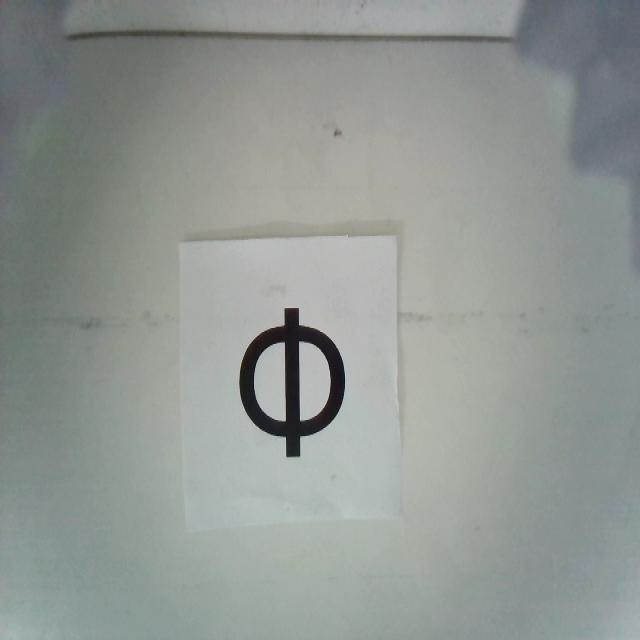F: (238, 311, 347, 456)
